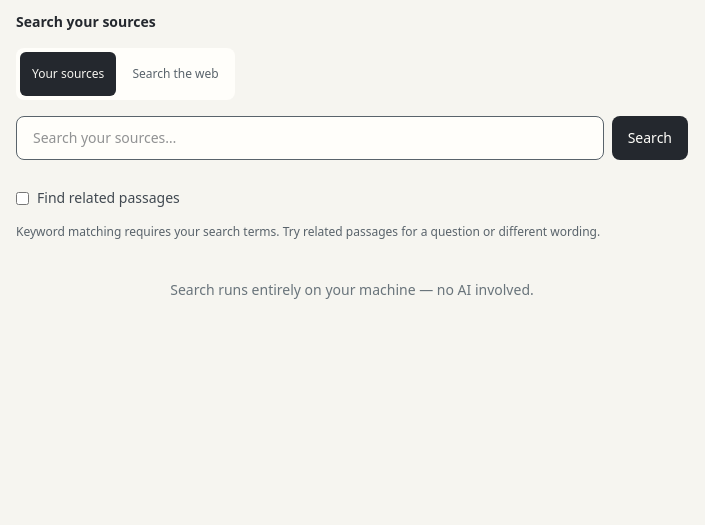
Test case: distinct snippets render as separate rows with no grouping note
The image size is (705, 525).
Type "cells" into the search field with placeholder "Search your sources…" at (310, 138), box [16,116,604,160]
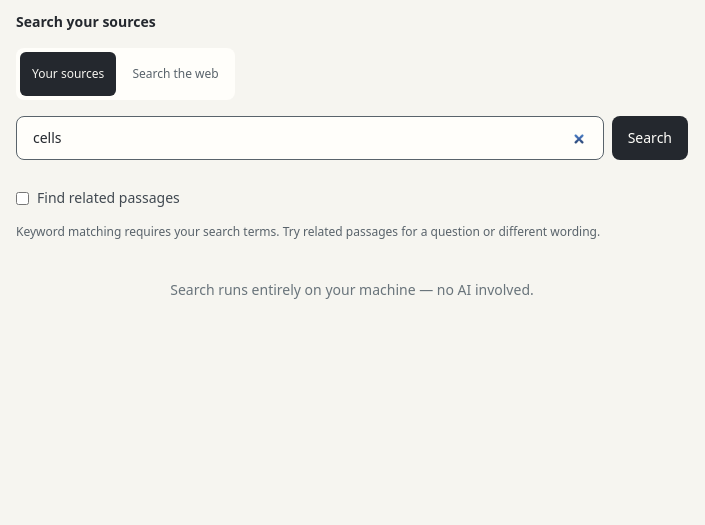
Click the button with aria-label "submit search" at (650, 138), box [612,116,688,160]
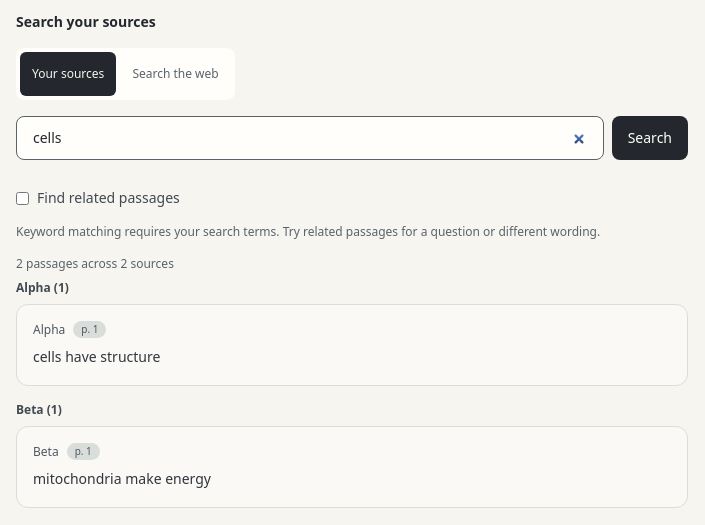
Expected: the text "mitochondria make energy" is shown, [33,469,211,488]
Expected: the number of list items is 2, [16,304,688,386]; [16,426,688,508]
